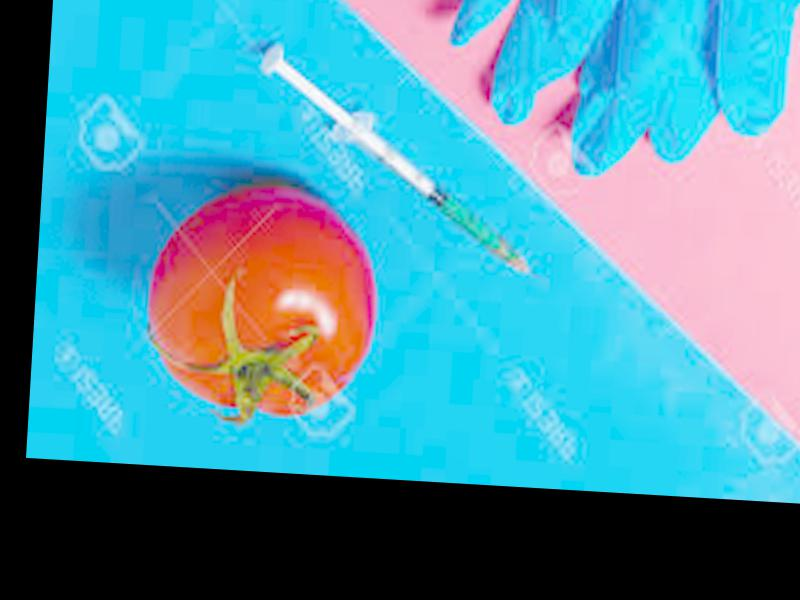Tomato: (146, 176, 383, 418)
